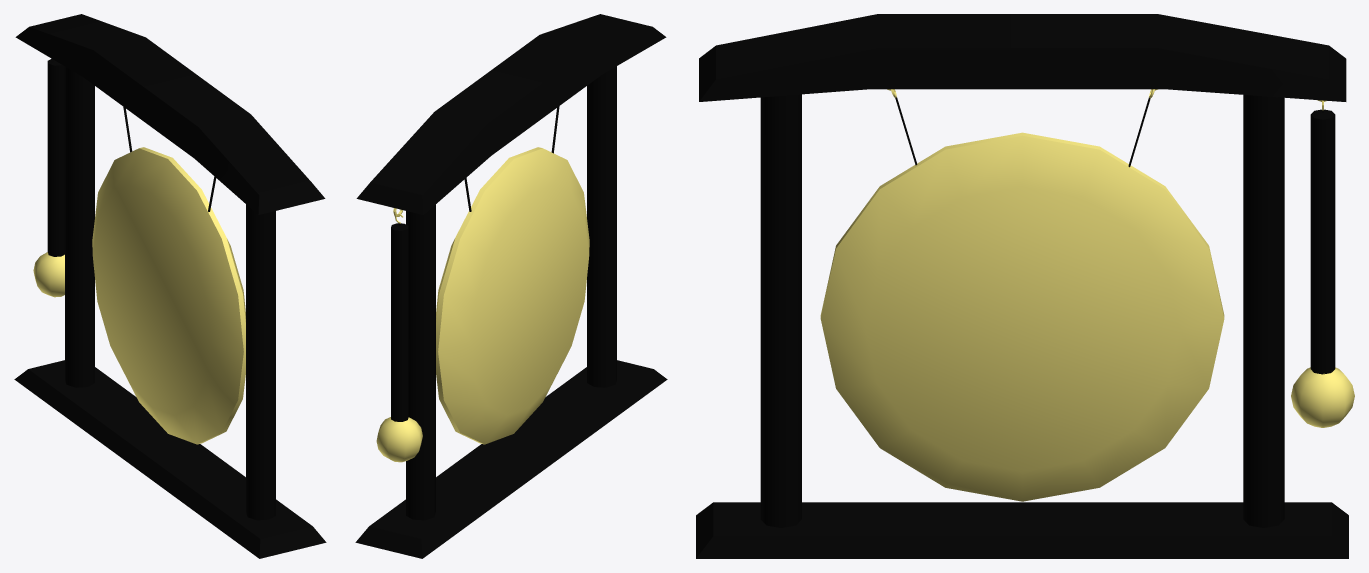
Rendered from low_poly_gong.glb.
3 views of the same model, side by side, from view 1: azimuth 30°, elevation 25°; view 2: azimuth 150°, elevation 25°; view 3: azimuth 270°, elevation 25° (orthographic). The views are drawn at different scales.
Visible parts, largest first — view 1: Low; view 2: Low; view 3: Low.
Part boxes in pixels (box(x1,y1,x2,y2)): Low: box(14, 14, 326, 558); Low: box(355, 14, 667, 558); Low: box(696, 14, 1354, 558).
Bounding box in the file's own units: 0.01 × 0.0541 × 0.0638.
1 material, 1 textured.
